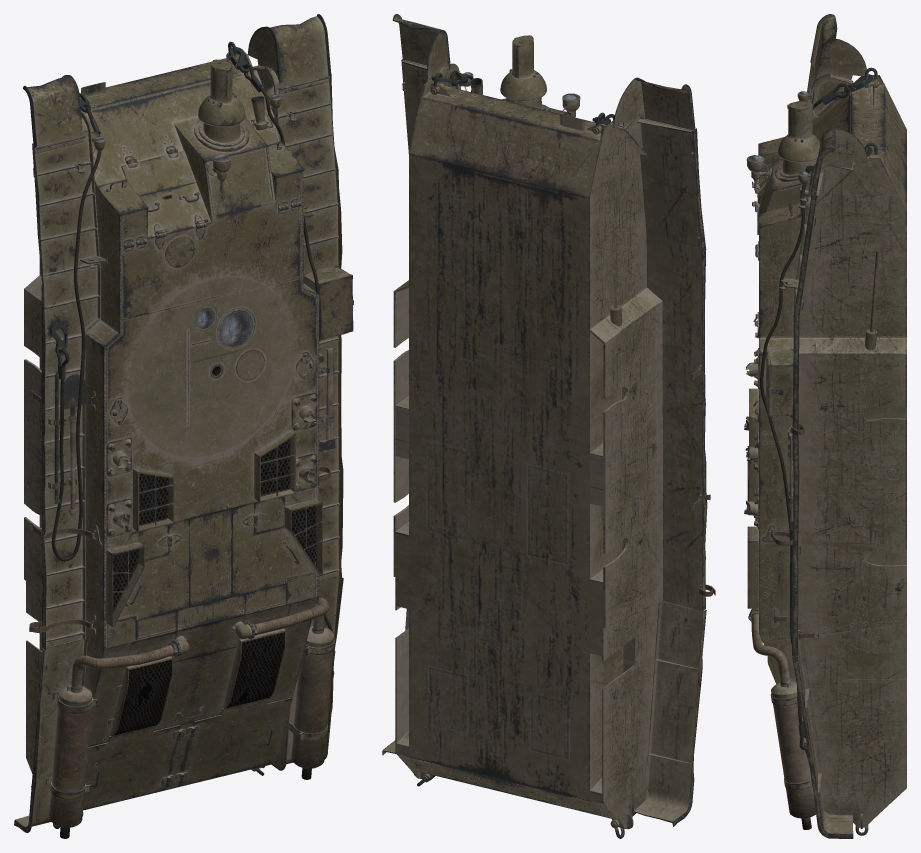
The model's file is Hull.glb.
3 views of the same model, side by side, from view 1: azimuth 30°, elevation 25°; view 2: azimuth 150°, elevation 25°; view 3: azimuth 270°, elevation 25° (orthographic). The views are drawn at different scales.
Visible parts, largest first — view 1: set_0_group_0; view 2: set_0_group_0; view 3: set_0_group_0.
Part boxes in pixels (x1,y1,x2,y2): set_0_group_0: (14,14,353,838); set_0_group_0: (382,14,715,838); set_0_group_0: (744,14,906,838).
Bounding box in the file's own units: 2.62 × 5.94 × 1.23.
1 material, 1 textured.
